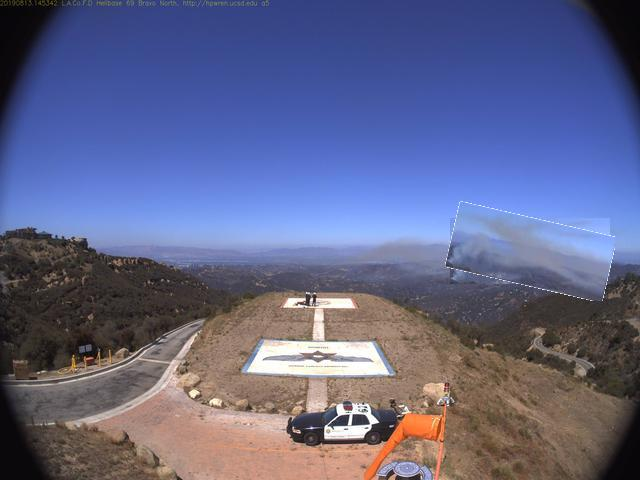smoke: (449, 211, 615, 295)
